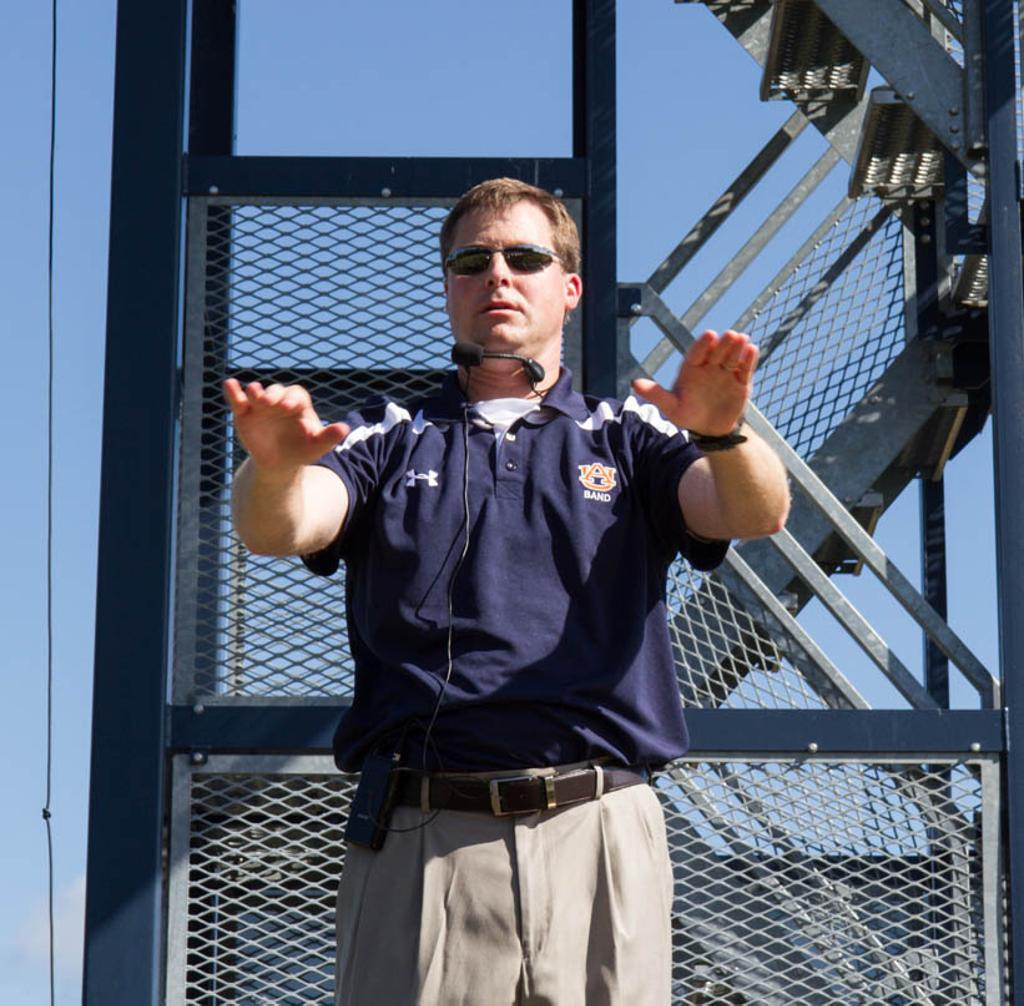face: (447, 197, 561, 349)
